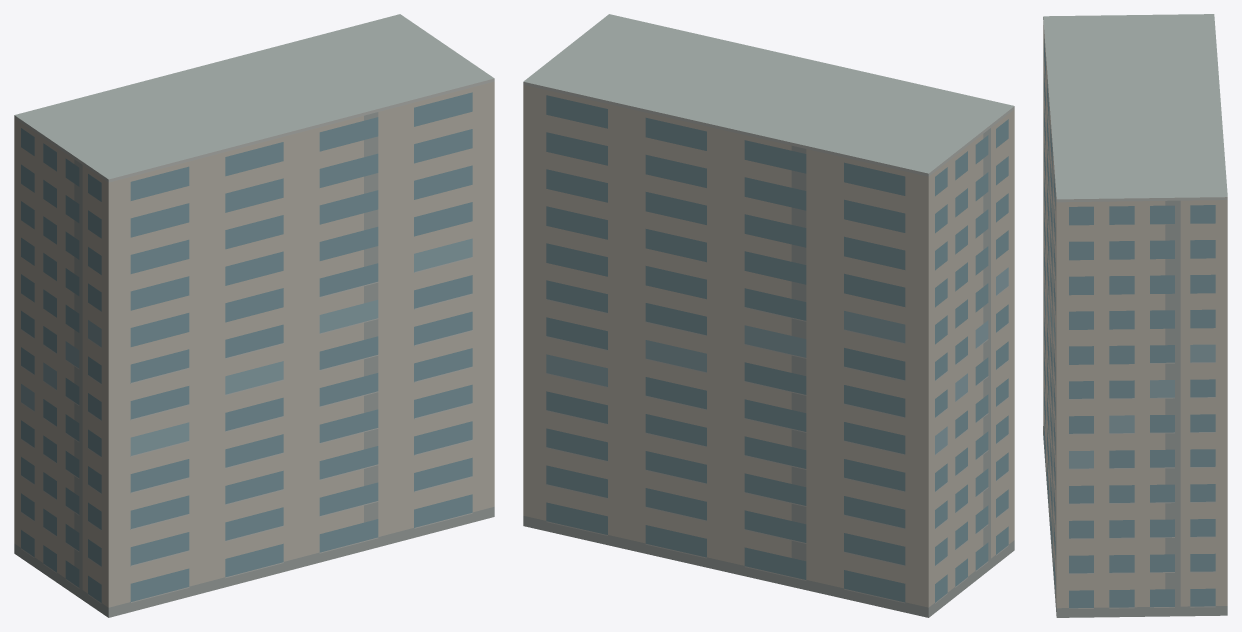
The model's file is residential-d2d12ac4-7c63-46ca-b2c6-c417882fe41d.glb.
The picture shows the model from 3 angles, left to right: view 1: azimuth 30°, elevation 25°; view 2: azimuth 150°, elevation 25°; view 3: azimuth 270°, elevation 25°; orthographic projection. The views are drawn at different scales.
Parts seen in each view (by area): view 1: residential-d2d12ac4-7c63-46ca-b2c6-c417882fe41d.tmp; view 2: residential-d2d12ac4-7c63-46ca-b2c6-c417882fe41d.tmp; view 3: residential-d2d12ac4-7c63-46ca-b2c6-c417882fe41d.tmp.
Part boxes in pixels (x1,y1,x2,y2): residential-d2d12ac4-7c63-46ca-b2c6-c417882fe41d.tmp: [14, 14, 494, 617]; residential-d2d12ac4-7c63-46ca-b2c6-c417882fe41d.tmp: [523, 14, 1014, 617]; residential-d2d12ac4-7c63-46ca-b2c6-c417882fe41d.tmp: [1043, 14, 1227, 617].
Bounding box in the file's own units: 33.25 × 35 × 14.
